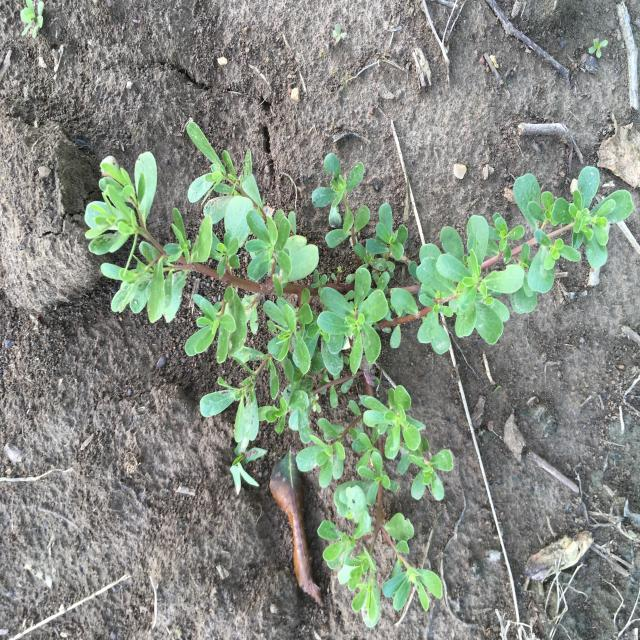Purslane: (84, 121, 634, 629), (20, 0, 44, 38), (589, 39, 608, 58)
